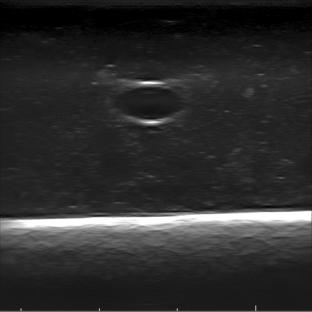vessel: (110, 82, 188, 128)
